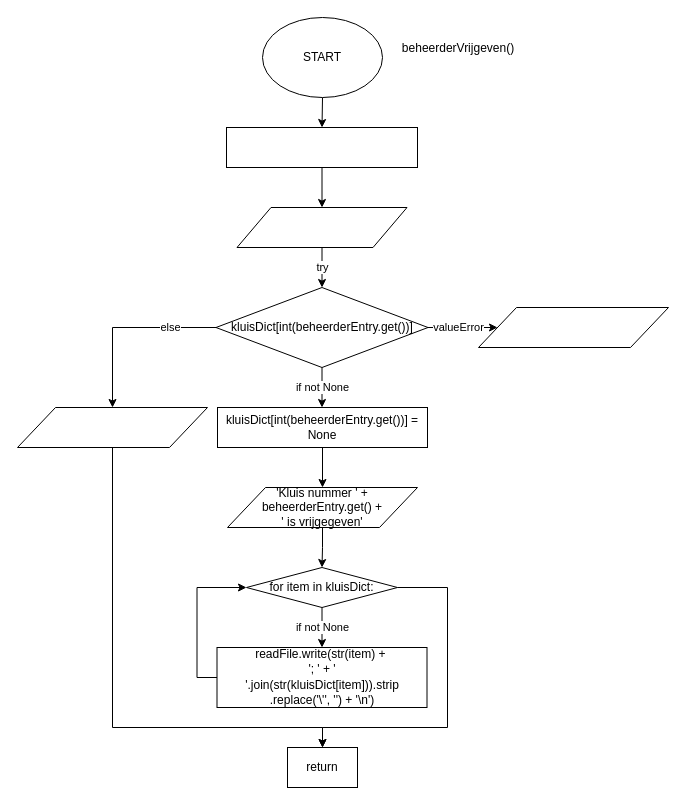
The diagram is 686 pixels wide and 805 high, and some of its shapes have lost their labels. The shapes that lost their labels are listed below. From the top down, each one's centre as x and y in pixels, then its label:
[322,147]: with open('FietsStalling.txt', 'r+') as readFile:
[321,227]: beheerderKluisVrijgeven
[573,327]: 'Geen geldige invoer'
[112,427]: 'Deze kluis is niet bezet'
